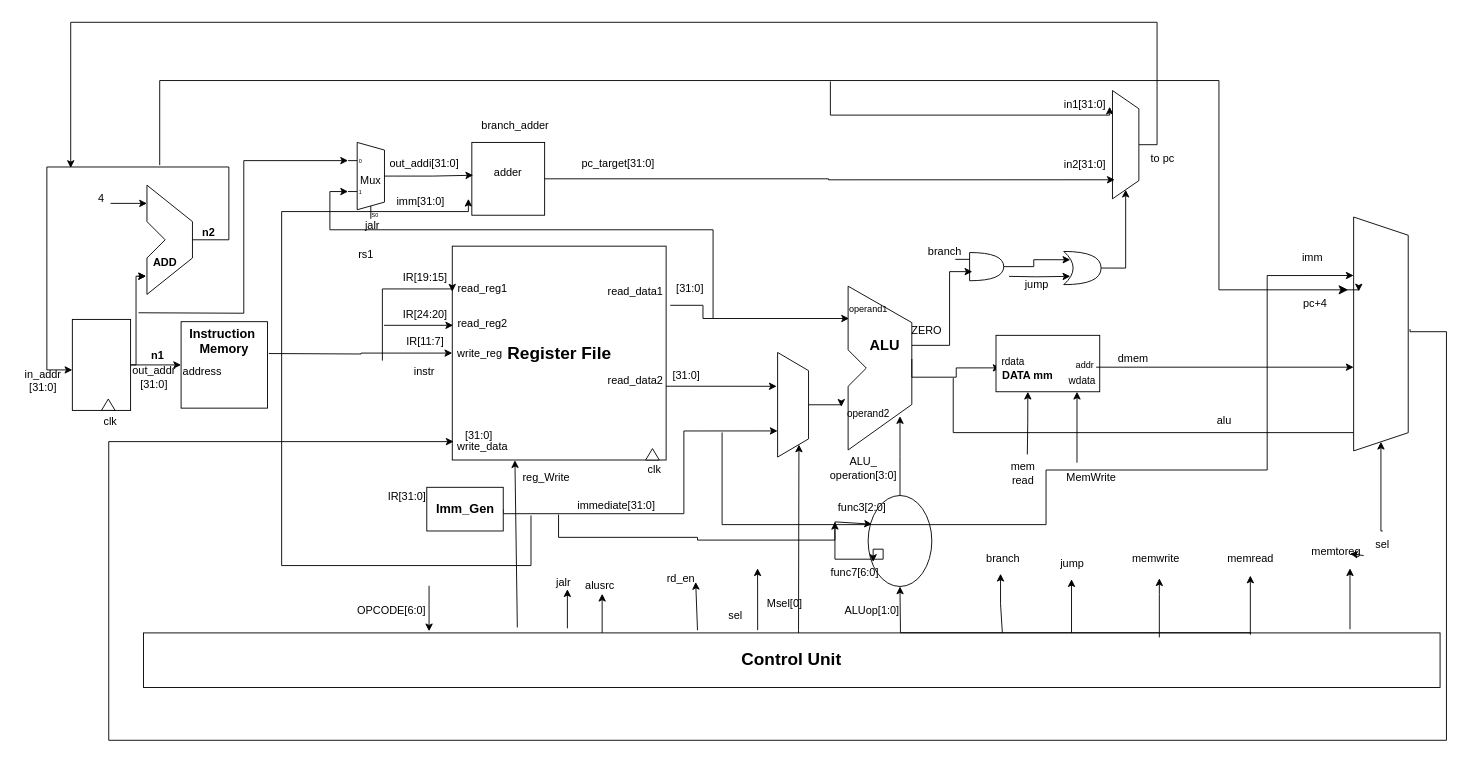
Some shapes in this 1470 by 763 pixel diagram are drawn without their labels. Each missing label, with the box of its shape:
ALU control: (867, 495, 932, 586)
ALU MUX: (777, 352, 809, 457)
PC: (71, 318, 131, 410)
